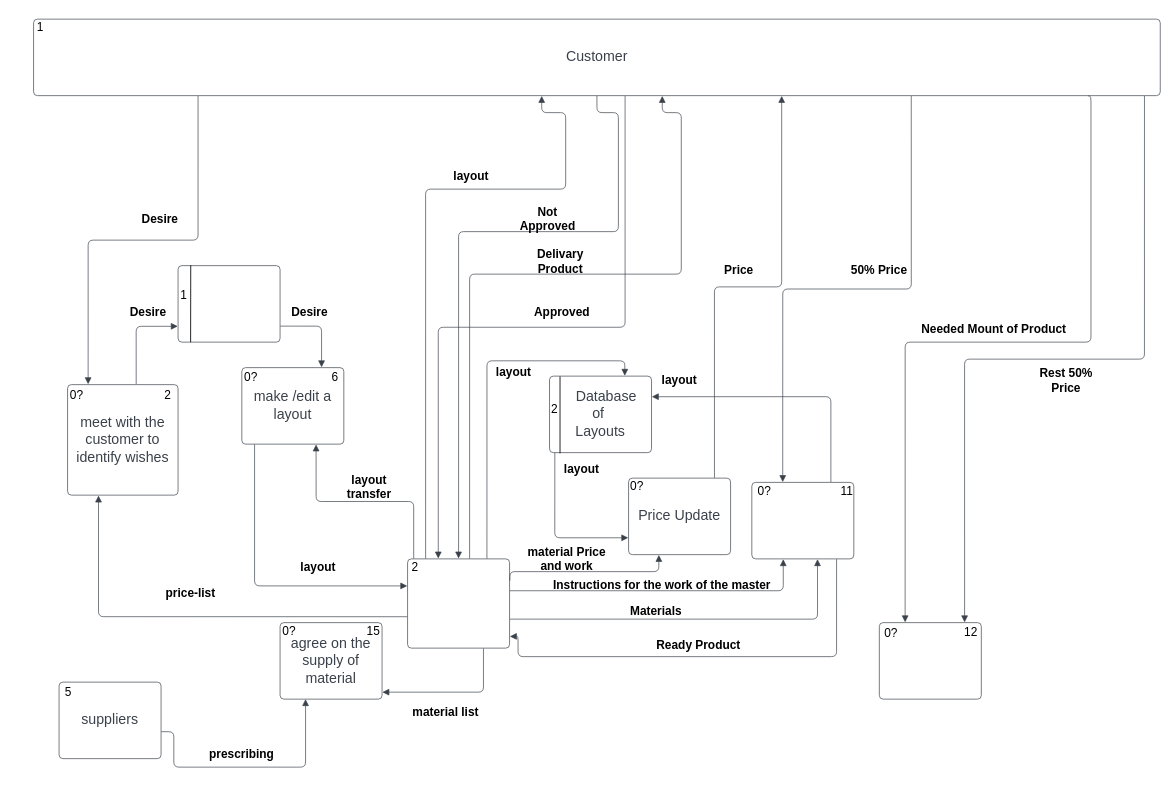
The diagram is 1175 pixels wide and 789 high, and some of its shapes have lost their labels. The box of each missing label's shape, as (x1, y1, x2, y2) in pixels:
database by Desire: (177, 265, 280, 342)
director: (407, 558, 509, 648)
Product Making: (751, 482, 854, 559)
Product Mounting: (879, 622, 981, 699)
